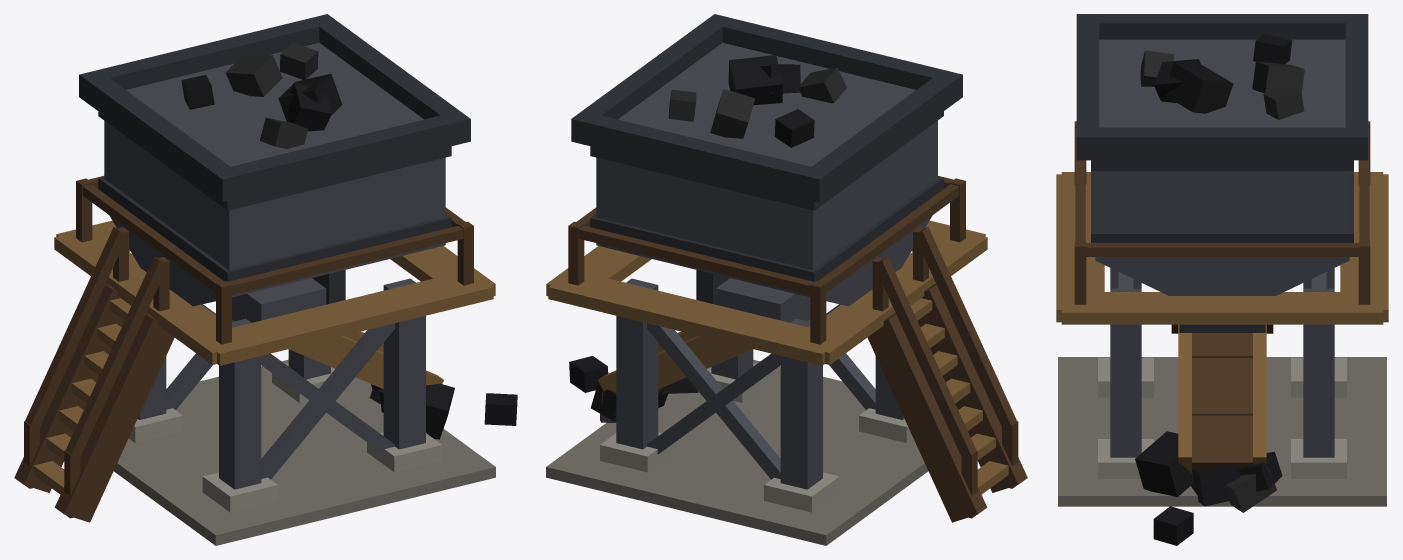
Rendered from coal_hopper.glb.
The picture shows the model from 3 angles, left to right: view 1: azimuth 30°, elevation 25°; view 2: azimuth 150°, elevation 25°; view 3: azimuth 270°, elevation 25°; orthographic projection.
Parts seen in each view (by area): view 1: Cube.009, Cube.042, Cube.018, Cube.026, Cube.047, Cube.020, Cube.019, Cube, Cube.002, Cube.025, Cube.021, Cube.010 (+32 smaller); view 2: Cube.009, Cube.042, Cube.032, Cube.020, Cube.051, Cube.018, Cube.019, Cube.001, Cube.003, Cube.025, Cube.021, Cube.010 (+35 smaller); view 3: Cube.009, Cube.042, Cube.031, Cube.021, Cube.037, Cube.008, Cube.019, Cube.003, Cube.002, Cube.026, Cube.033, Cube.032 (+27 smaller).
Boxes of the visible parts, x1,y1,x2,y2 form: Cube.009: (104,42,445,297); Cube.042: (114,359,495,545); Cube.018: (211,111,470,201); Cube.026: (212,278,493,365); Cube.047: (55,313,174,522); Cube.020: (79,14,337,104); Cube.019: (79,70,241,201); Cube: (219,318,261,489); Cube.002: (383,278,425,449); Cube.025: (54,227,253,364); Cube.021: (310,14,470,143); Cube.010: (98,176,451,281); Cube.009: (596,43,937,297); Cube.042: (546,359,928,545); Cube.032: (548,278,828,365); Cube.020: (571,111,826,200); Cube.051: (867,313,987,522); Cube.018: (704,14,962,104); Cube.019: (800,70,962,201); Cube.001: (780,318,822,489); Cube.003: (616,278,658,449); Cube.025: (789,227,987,364); Cube.021: (571,14,731,144); Cube.010: (590,176,943,281); Cube.009: (1095,39,1349,260); Cube.042: (1058,357,1386,506); Cube.031: (1061,292,1383,324); Cube.021: (1076,127,1368,160); Cube.037: (1192,333,1252,469); Cube.008: (1096,260,1348,295); Cube.019: (1077,14,1368,39); Cube.003: (1303,288,1334,457); Cube.002: (1110,288,1141,457); Cube.026: (1056,174,1104,322); Cube.033: (1086,243,1358,256); Cube.032: (1340,174,1388,322).
Bounding box in the file's own units: 71.63 × 56.57 × 44.5.
